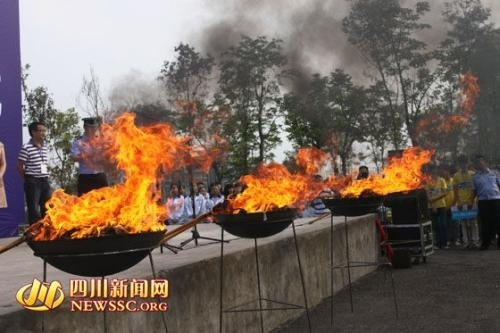fire: (32, 108, 209, 242), (225, 142, 437, 214), (418, 70, 478, 134)
